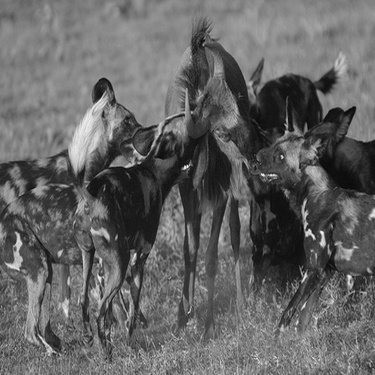dog: (3, 127, 161, 357), (3, 72, 145, 321), (68, 106, 203, 365), (242, 122, 372, 348), (241, 48, 347, 280), (304, 103, 372, 201)
